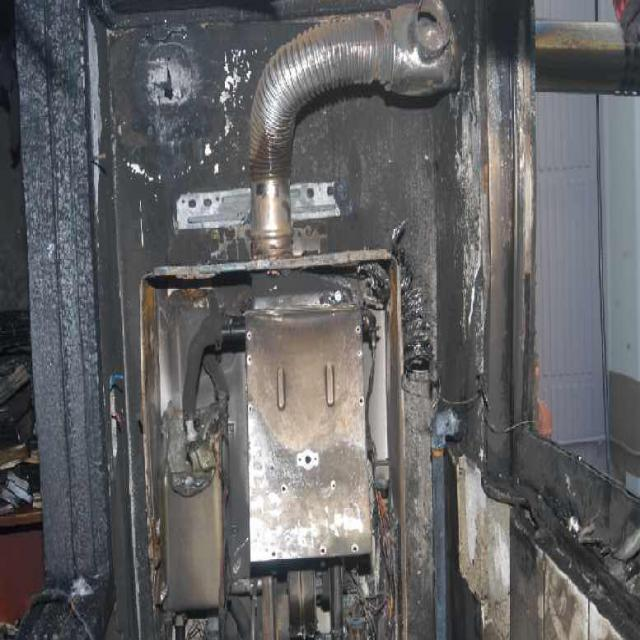Boiler: (120, 212, 428, 640)
